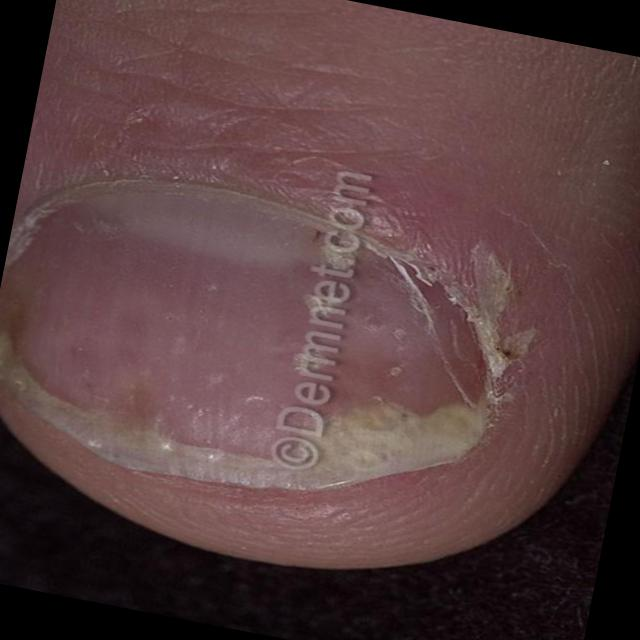Nail: (0, 177, 494, 488)
